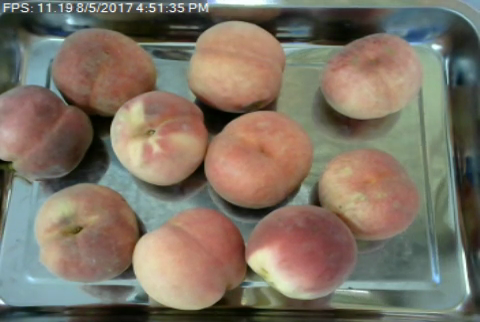Peach: (135, 207, 246, 311), (34, 183, 140, 283), (246, 204, 356, 300), (204, 110, 310, 208), (107, 88, 208, 185), (316, 147, 420, 239), (50, 27, 158, 115), (315, 32, 421, 121), (187, 21, 286, 111), (0, 85, 93, 179)
